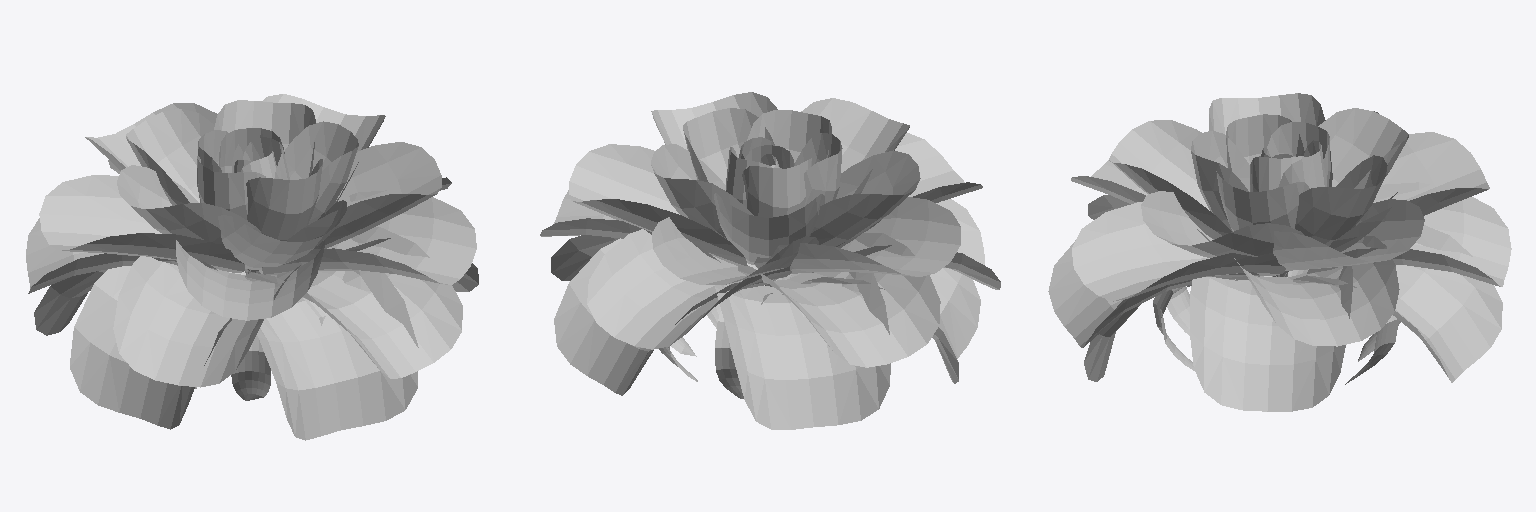
The model's file is FlowerTopModel_03_seq_0050.obj.
3 renders of one model, left to right at view 1: azimuth 30°, elevation 25°; view 2: azimuth 150°, elevation 25°; view 3: azimuth 270°, elevation 25°, orthographic.
Visible parts, largest first — view 1: FlowerTopModel_03; view 2: FlowerTopModel_03; view 3: FlowerTopModel_03.
Boxes of the visible parts, x1,y1,x2,y2 form: FlowerTopModel_03: [26, 94, 478, 440]; FlowerTopModel_03: [540, 92, 1000, 429]; FlowerTopModel_03: [1048, 93, 1511, 411].
Bounding box in the file's own units: 927 × 503 × 940.